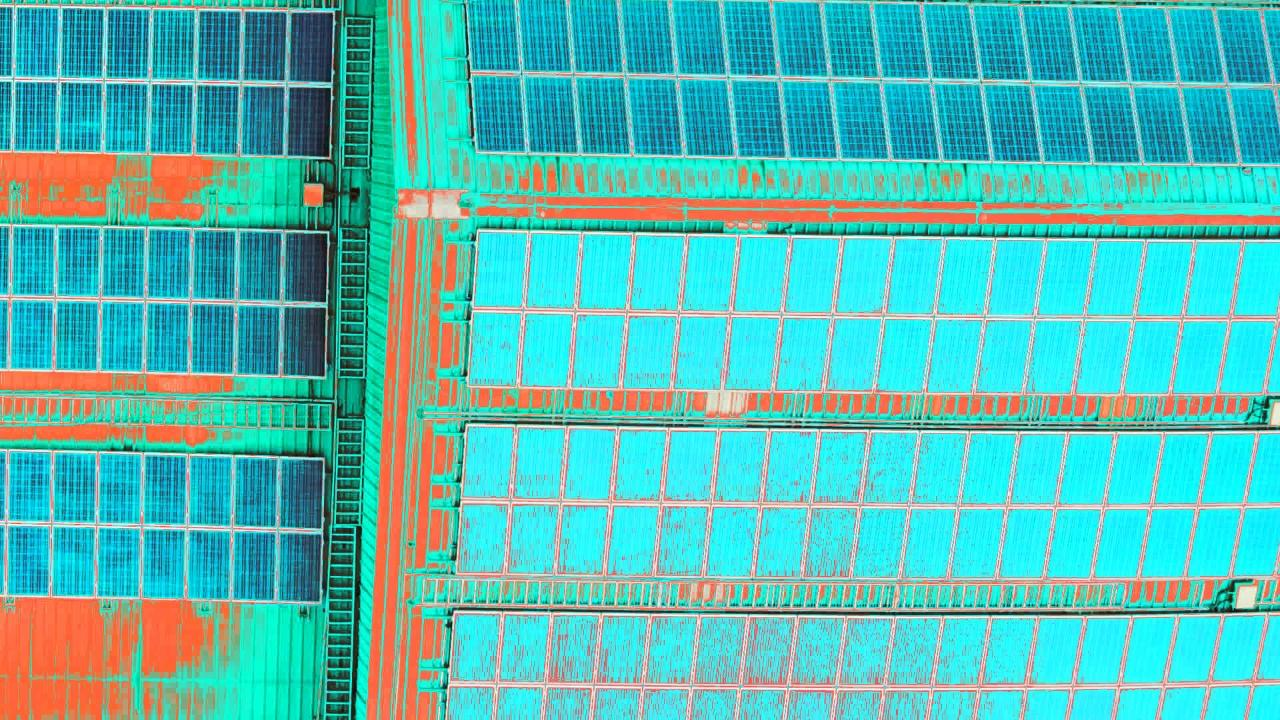clean: (14, 4, 334, 159)
dirty: (473, 228, 1280, 402), (463, 424, 1280, 577), (473, 618, 1269, 720)
semi: (460, 1, 1280, 173), (8, 226, 327, 382), (2, 449, 321, 605)
